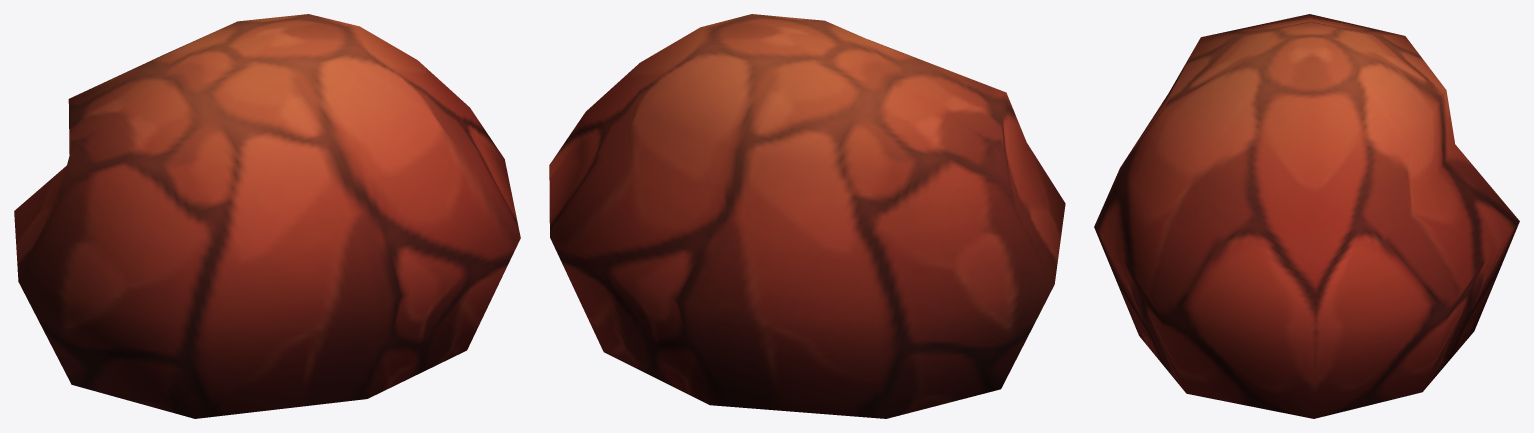
File: Small_Rock_04.FBX
The picture shows the model from 3 angles, left to right: view 1: azimuth 30°, elevation 25°; view 2: azimuth 150°, elevation 25°; view 3: azimuth 270°, elevation 25°; orthographic projection. The views are drawn at different scales.
Visible parts, largest first — view 1: Small_Rock_04; view 2: Small_Rock_04; view 3: Small_Rock_04.
Part boxes in pixels (x1=…): Small_Rock_04: x1=14, y1=14, x2=520, y2=418; Small_Rock_04: x1=549, y1=14, x2=1065, y2=418; Small_Rock_04: x1=1094, y1=14, x2=1519, y2=418.
Bounding box in the file's own units: 30.3 × 17.68 × 23.9.
